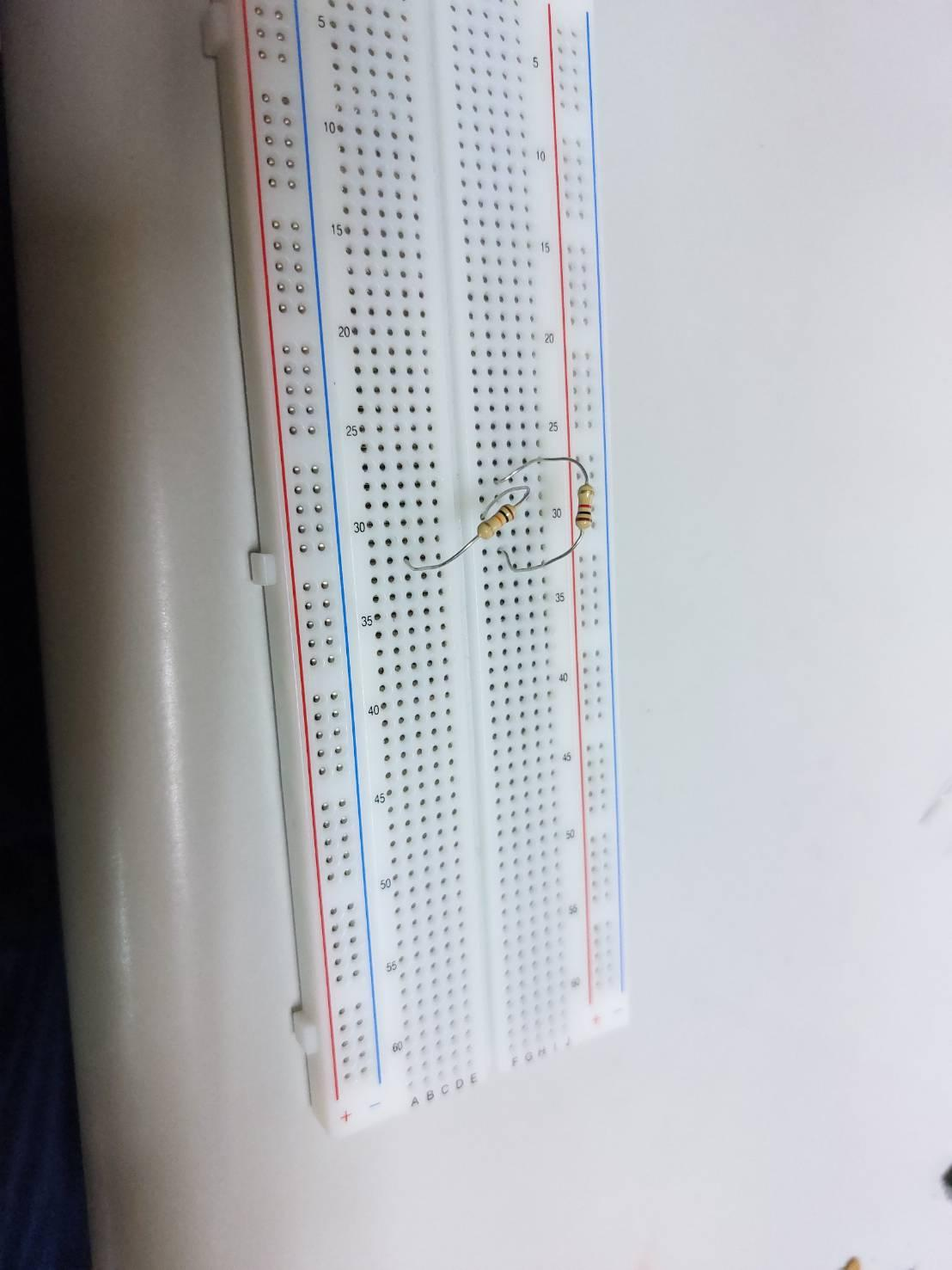resistor: (478, 503, 514, 541), (576, 484, 595, 530)
